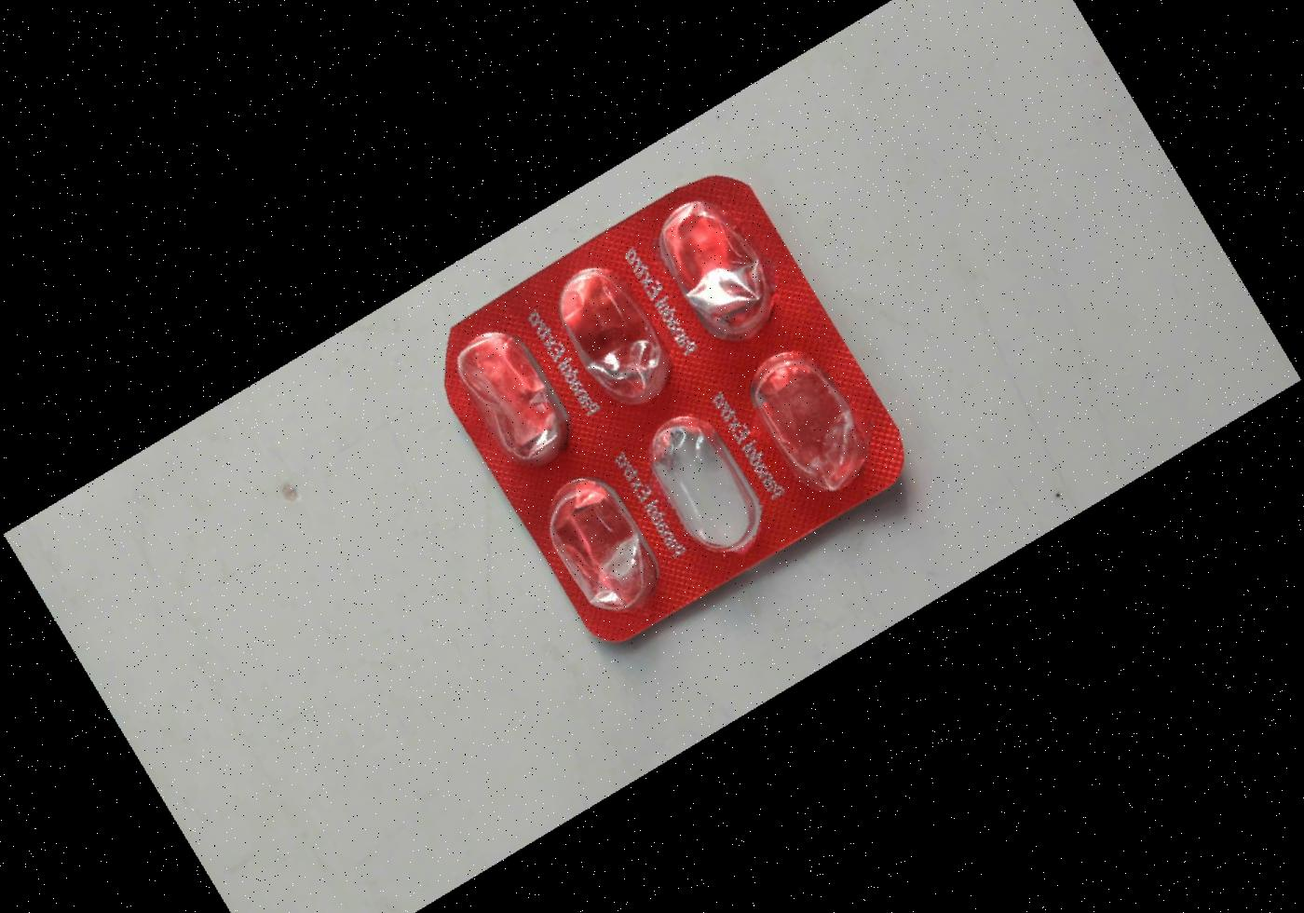Empty: (629, 178, 798, 361), (530, 242, 699, 425), (720, 327, 889, 509), (516, 454, 685, 636), (428, 305, 596, 488), (616, 393, 784, 575)
